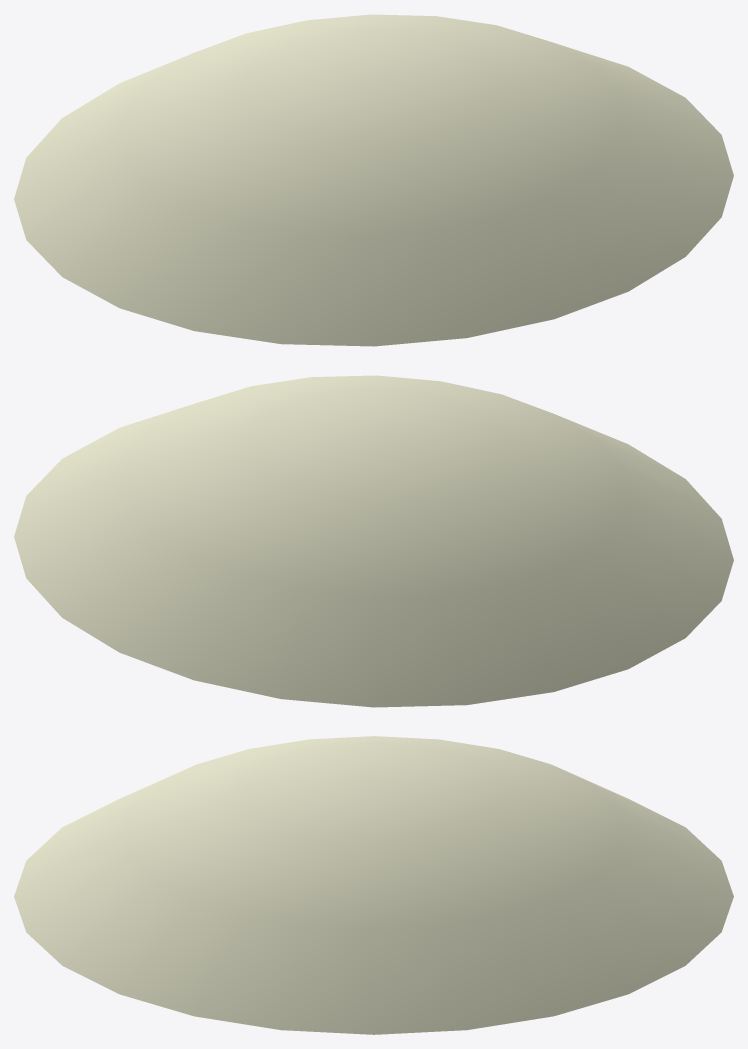
Rendered from original-108.obj.
3 renders of one model, top to bottom at view 1: azimuth 30°, elevation 25°; view 2: azimuth 150°, elevation 25°; view 3: azimuth 270°, elevation 25°, orthographic.
Parts seen in each view (by area): view 1: #ID460; view 2: #ID460; view 3: #ID460.
Boxes of the visible parts, x1=… form: #ID460: x1=14, y1=14, x2=733, y2=346; #ID460: x1=14, y1=375, x2=733, y2=707; #ID460: x1=14, y1=736, x2=733, y2=1034.
Bounding box in the file's own units: 0.0109 × 0.00215 × 0.0109.
